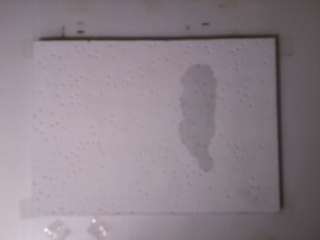Water_detected: (178, 77, 220, 160)
